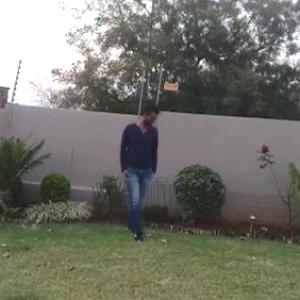follow: (114, 101, 159, 243)
